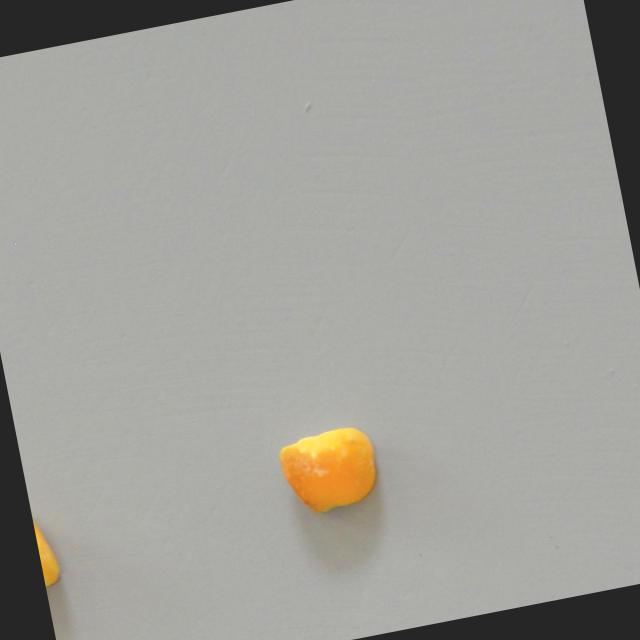dañado: (262, 411, 390, 543), (30, 503, 73, 618)
